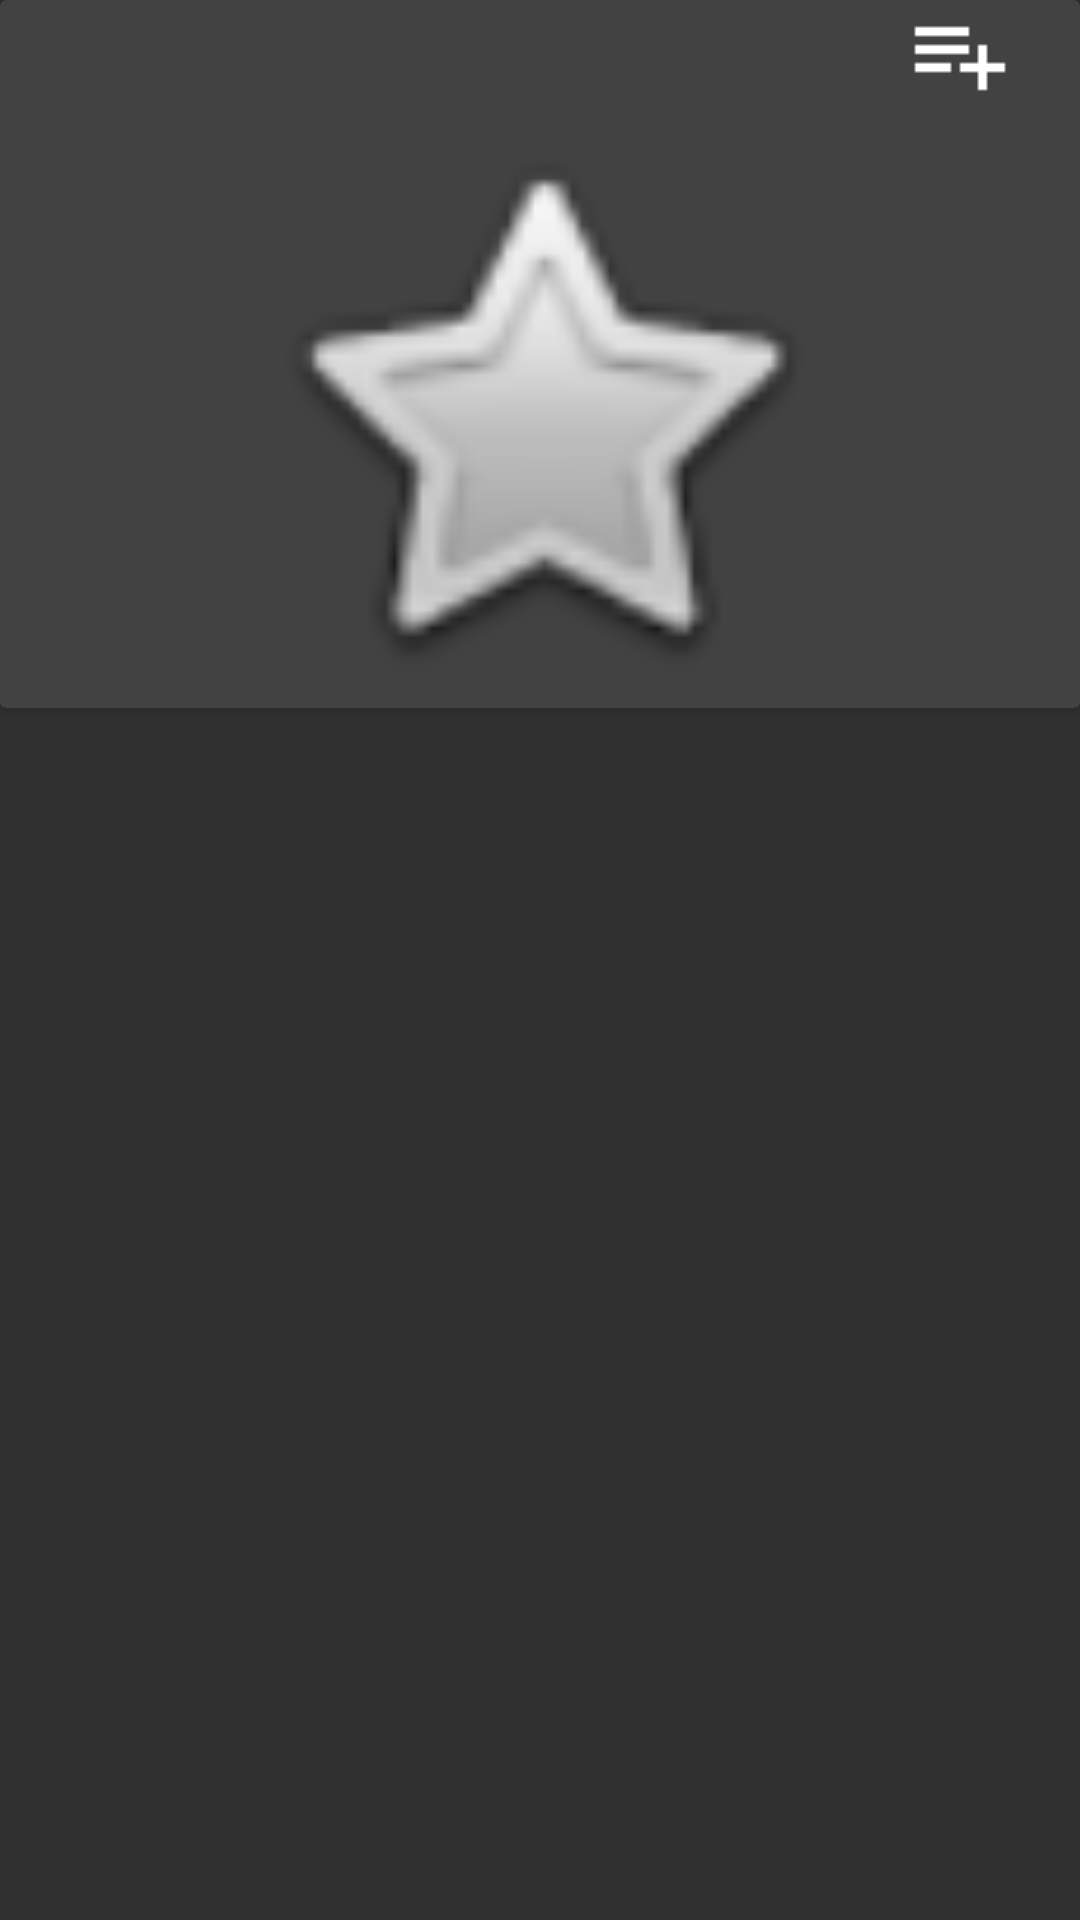

Named icons in this screenshot (1080×1920) and their bounding boxes, (x1, y1, x2, y2):
playlist plus: (914, 26, 1006, 91)
